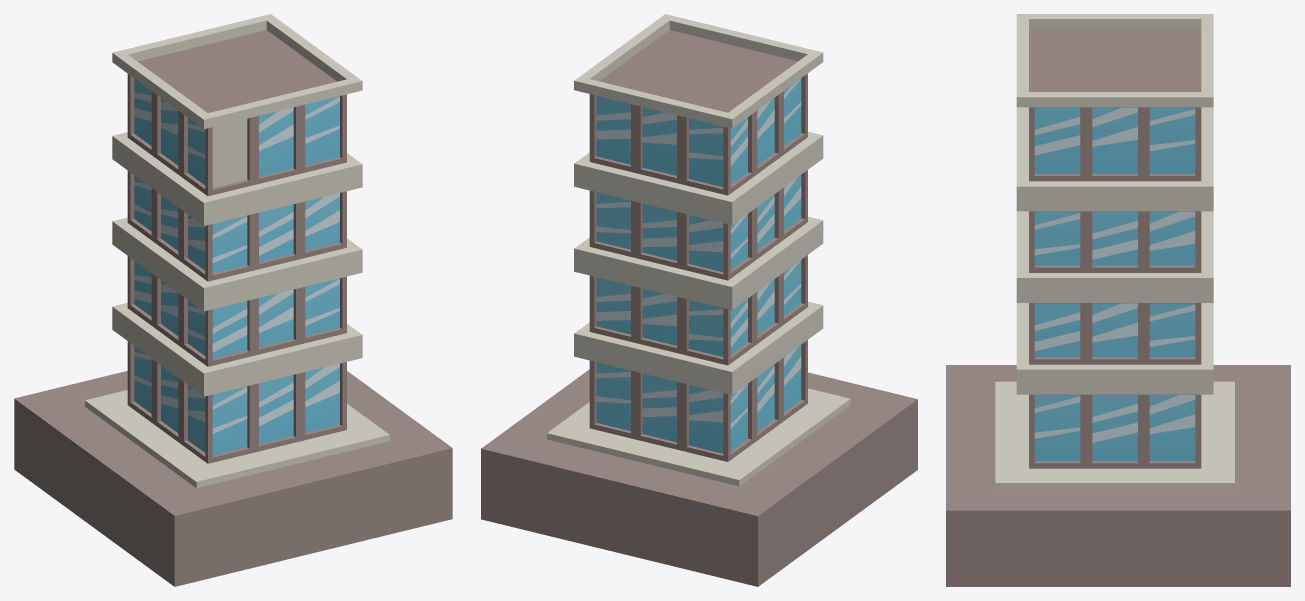
File: Background_Office.fbx
3 renders of one model, left to right at view 1: azimuth 30°, elevation 25°; view 2: azimuth 150°, elevation 25°; view 3: azimuth 270°, elevation 25°, orthographic. The views are drawn at different scales.
Visible parts, largest first — view 1: Background_Office; view 2: Background_Office; view 3: Background_Office.
Boxes of the visible parts, bbox=[...] form: Background_Office: bbox=[14, 14, 452, 586]; Background_Office: bbox=[481, 14, 917, 586]; Background_Office: bbox=[946, 14, 1290, 586].
Bounding box in the file's own units: 400 × 588 × 400.
